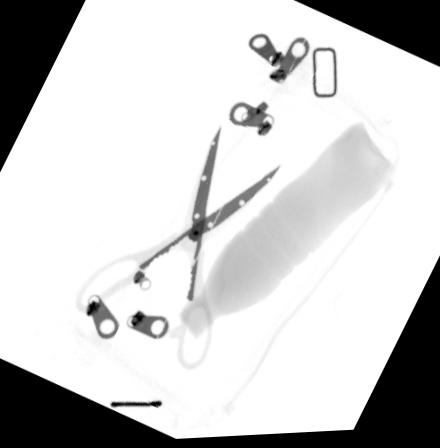Scissors: (77, 126, 279, 372)
